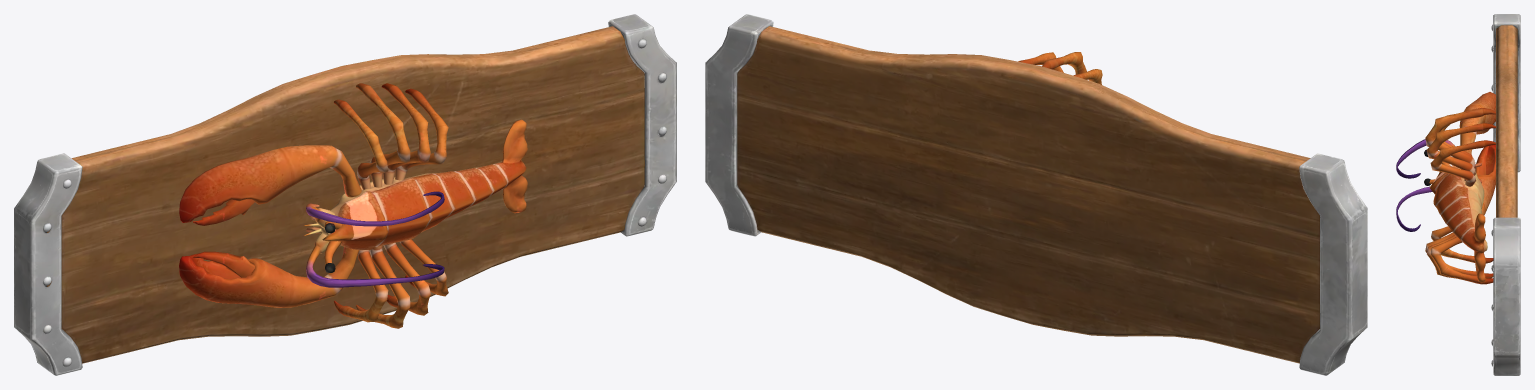
The picture shows the model from 3 angles, left to right: view 1: azimuth 30°, elevation 25°; view 2: azimuth 150°, elevation 25°; view 3: azimuth 270°, elevation 25°; orthographic projection. The views are drawn at different scales.
Visible parts, largest first — view 1: SM_Trophy_Plaque_Lobster_01_LOD0; view 2: SM_Trophy_Plaque_Lobster_01_LOD0; view 3: SM_Trophy_Plaque_Lobster_01_LOD0.
Boxes of the visible parts, x1,y1,x2,y2 form: SM_Trophy_Plaque_Lobster_01_LOD0: (14,14,676,375); SM_Trophy_Plaque_Lobster_01_LOD0: (705,14,1367,375); SM_Trophy_Plaque_Lobster_01_LOD0: (1396,14,1520,375).
Bounding box in the file's own units: 1.48 × 0.5529 × 0.3369.
Materials: 2 (2 with a texture image).
